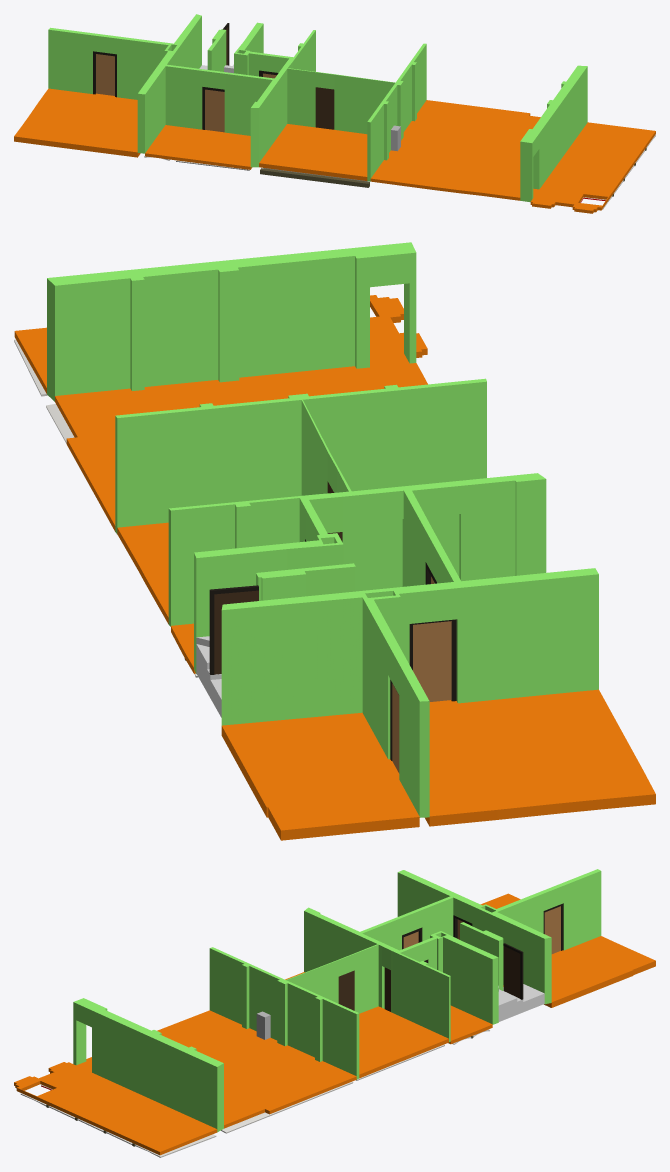
The model's file is interier2pp.obj.
3 views of the same model, one above another, from view 1: azimuth 30°, elevation 25°; view 2: azimuth 150°, elevation 25°; view 3: azimuth 270°, elevation 25° (orthographic). The views are drawn at different scales.
Parts seen in each view (by area): view 1: 3D_podlahy_1NP, 3D_interier_zdi_1NP, 3D_okna_dvere, 3D_klenby, object 7; view 2: 3D_interier_zdi_1NP, 3D_podlahy_1NP, 3D_okna_dvere, 3D_schody; view 3: 3D_interier_zdi_1NP, 3D_podlahy_1NP, 3D_okna_dvere, object 7, 3D_schody.
Part boxes in pixels (box(x1,y1,x2,y2)): 3D_podlahy_1NP: box(14, 88, 655, 213); 3D_interier_zdi_1NP: box(48, 14, 587, 202); 3D_okna_dvere: box(93, 23, 334, 132); 3D_klenby: box(260, 147, 646, 202); object 7: box(144, 135, 655, 209); 3D_interier_zdi_1NP: box(47, 242, 598, 817); 3D_podlahy_1NP: box(14, 295, 655, 840); 3D_okna_dvere: box(209, 481, 456, 773); 3D_schody: box(196, 636, 221, 717); 3D_interier_zdi_1NP: box(73, 869, 601, 1132); 3D_podlahy_1NP: box(14, 893, 655, 1155); 3D_okna_dvere: box(338, 903, 563, 1011); object 7: box(20, 1029, 489, 1157); 3D_schody: box(498, 984, 544, 1021).
Bounding box in the file's own units: 24.81 × 3.37 × 25.75.
